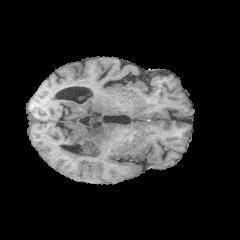glioma: (57, 123, 125, 160)
